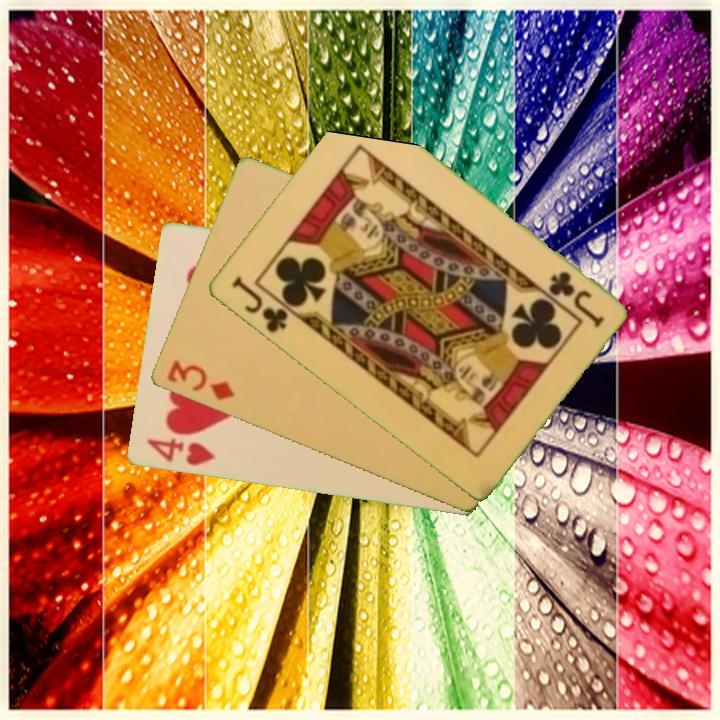3d: (163, 357, 237, 404)
4h: (143, 434, 217, 469)
Jc: (227, 273, 291, 336), (544, 267, 607, 330)
